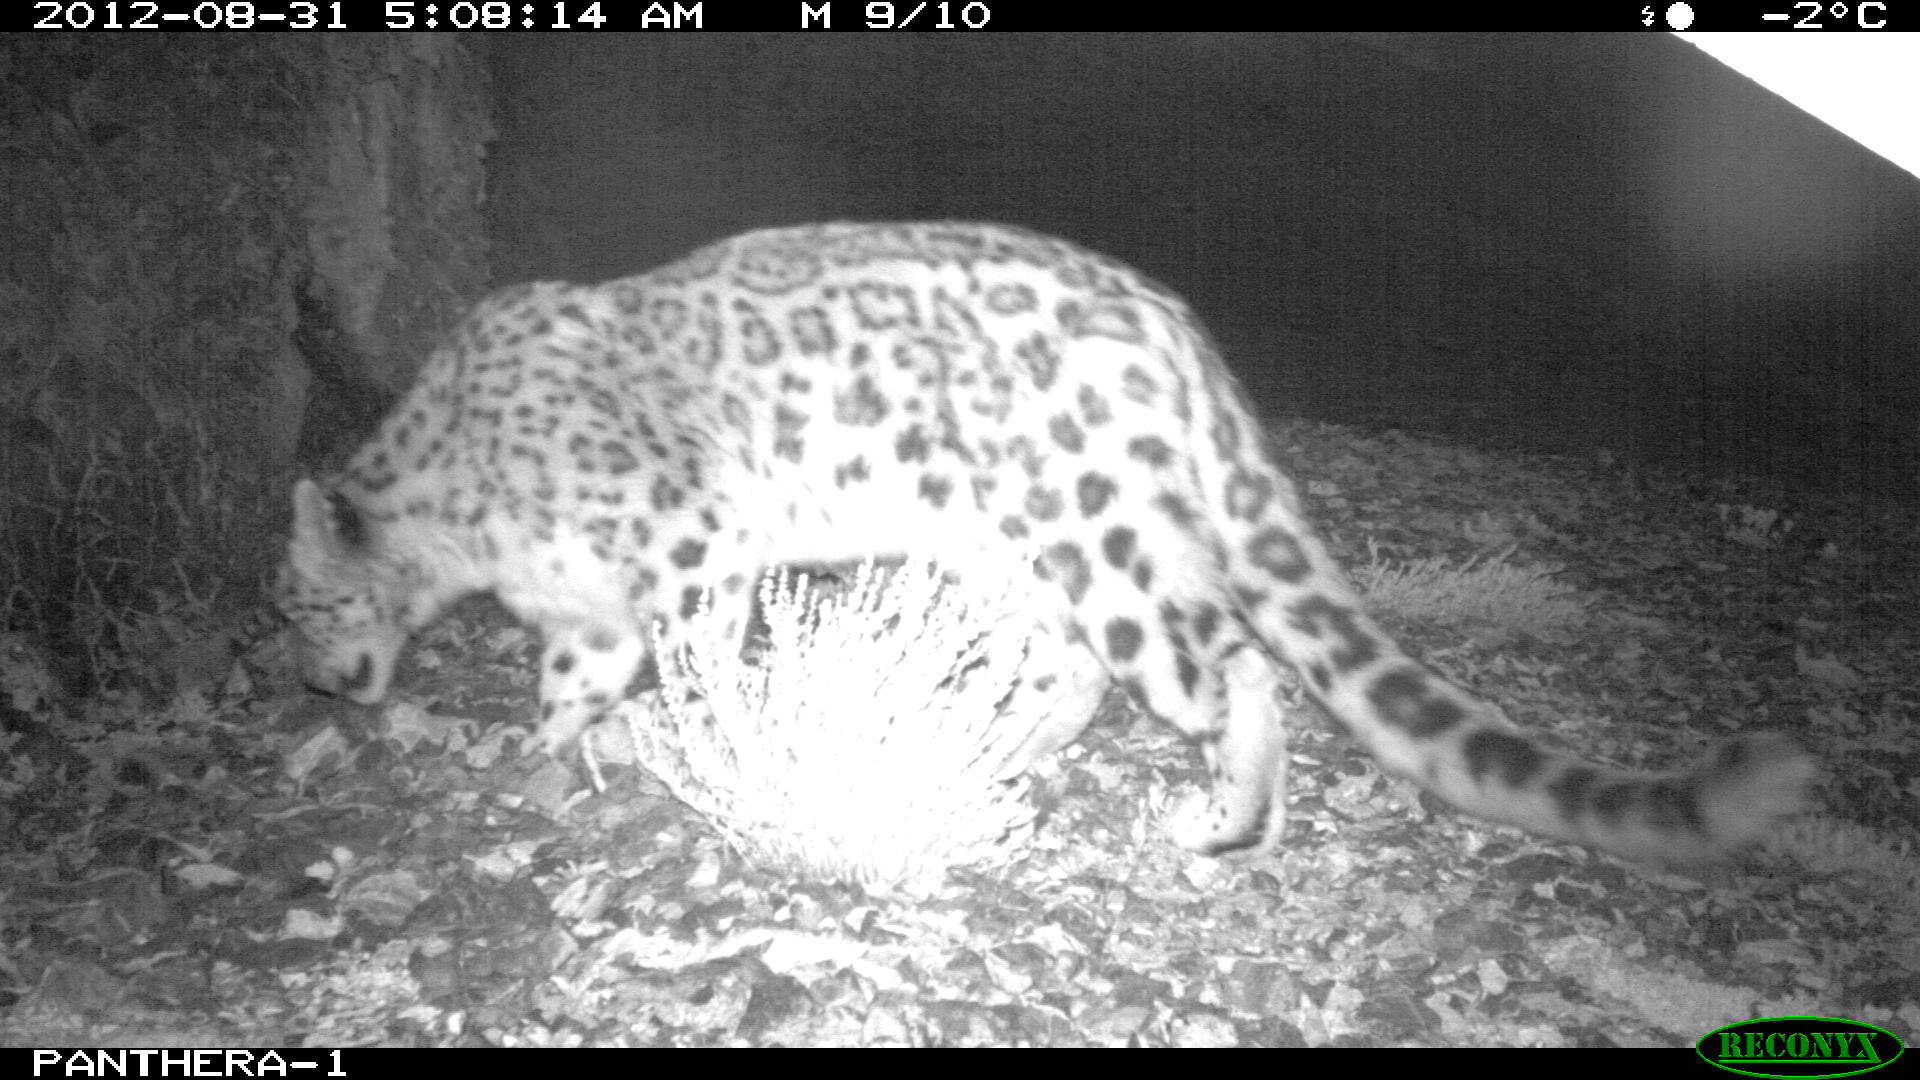Leopard: (244, 196, 1844, 916)
